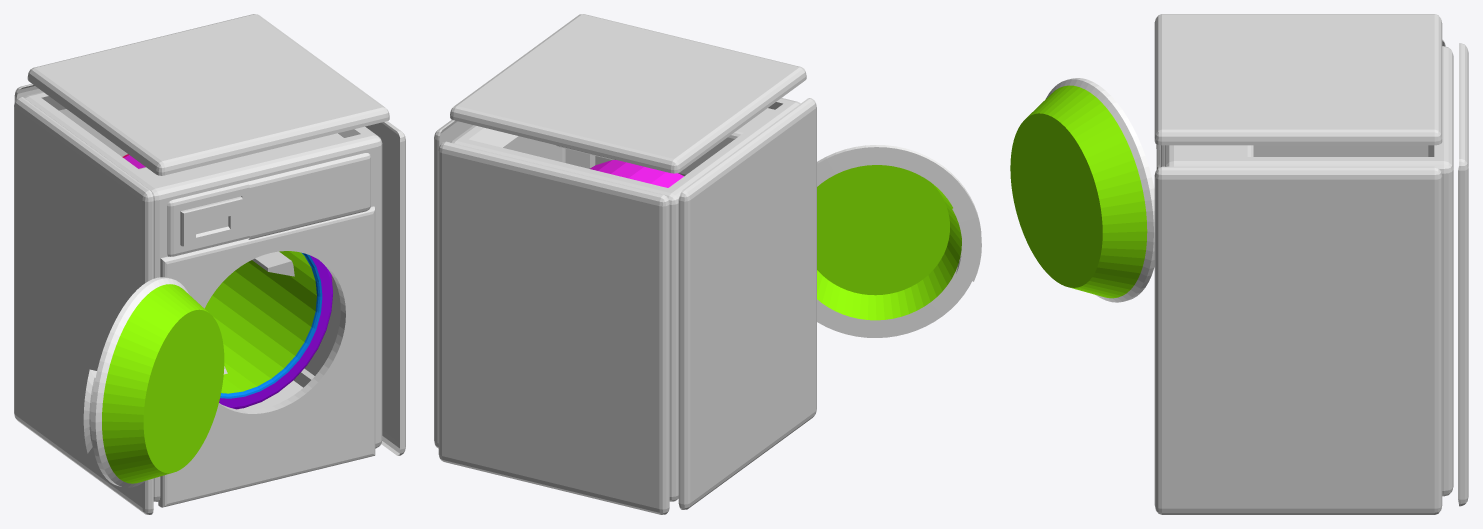
Rendered from destructive m2 as main.fbx.
The picture shows the model from 3 angles, left to right: view 1: azimuth 30°, elevation 25°; view 2: azimuth 150°, elevation 25°; view 3: azimuth 270°, elevation 25°; orthographic projection. The views are drawn at different scales.
Parts seen in each view (by area): view 1: left panel, top, front panel, washer door, frame, tub, right panel, buttons etc, detergent box, back panel, rp1.005; view 2: back panel, left panel, top, washer door, frame, right panel, tub; view 3: right panel, top, washer door, frame, back panel, left panel.
Part boxes in pixels (left/top/right/bottom): left panel: left=14, top=97, right=153, bottom=514; top: left=27, top=14, right=389, bottom=175; front panel: left=158, top=206, right=375, bottom=507; washer door: left=83, top=277, right=224, bottom=487; frame: left=24, top=92, right=382, bottom=501; tub: left=122, top=154, right=332, bottom=409; right panel: left=304, top=121, right=405, bottom=455; buttons etc: left=248, top=153, right=370, bottom=239; detergent box: left=180, top=196, right=242, bottom=246; back panel: left=14, top=84, right=127, bottom=156; rp1.005: left=252, top=251, right=294, bottom=276; back panel: left=438, top=141, right=669, bottom=514; left panel: left=678, top=98, right=816, bottom=509; top: left=450, top=14, right=806, bottom=173; washer door: left=817, top=145, right=981, bottom=337; frame: left=450, top=98, right=800, bottom=501; right panel: left=434, top=119, right=565, bottom=448; tub: left=590, top=160, right=683, bottom=187; right panel: left=1154, top=166, right=1442, bottom=514; top: left=1154, top=14, right=1442, bottom=145; washer door: left=1010, top=78, right=1154, bottom=302; frame: left=1161, top=46, right=1453, bottom=496; back panel: left=1458, top=43, right=1468, bottom=506; left panel: left=1254, top=39, right=1445, bottom=156.
Bounding box in the file's own units: 95.62 × 85.85 × 94.67.
